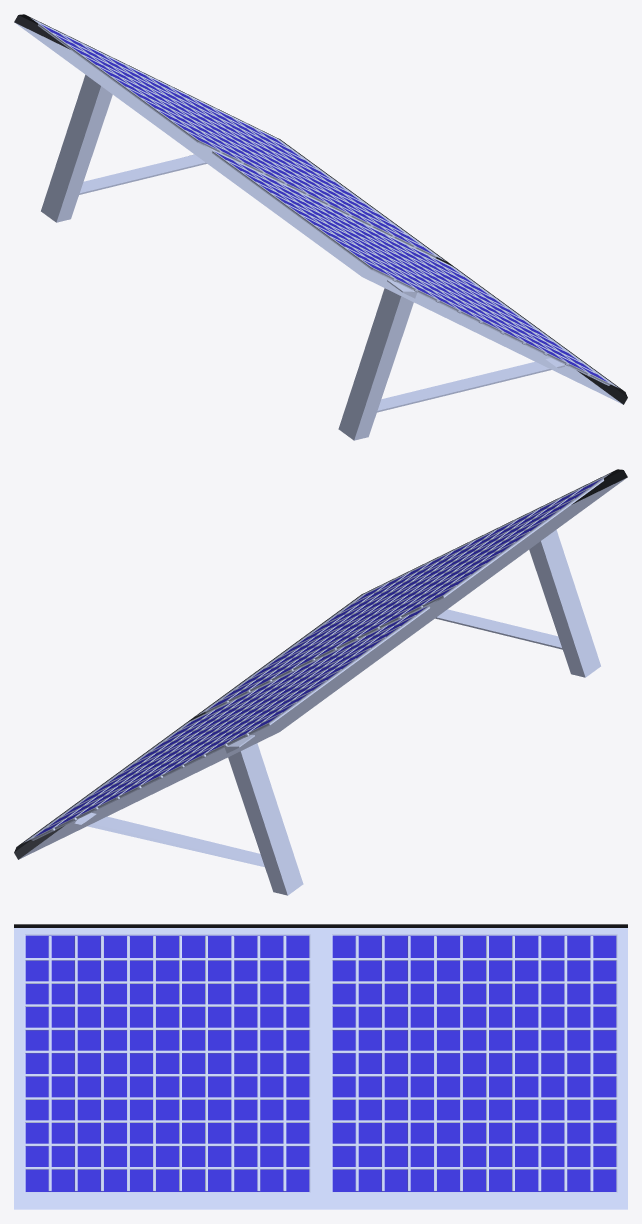
The model's file is Solarpanel.fbx.
The picture shows the model from 3 angles, top to bottom: view 1: azimuth 30°, elevation 25°; view 2: azimuth 150°, elevation 25°; view 3: azimuth 270°, elevation 25°; orthographic projection. The views are drawn at different scales.
Visible parts, largest first — view 1: 平面.001, 平面.003; view 2: 平面.001, 平面.003; view 3: 平面.001, 平面.003.
Part boxes in pixels (<box>): 平面.001: <box>14,14,627,440</box>; 平面.003: <box>51,32,596,376</box>; 平面.001: <box>14,469,627,895</box>; 平面.003: <box>45,487,590,831</box>; 平面.001: <box>14,924,627,1209</box>; 平面.003: <box>24,936,617,1191</box>.
Size of the model in its own units: 353 by 252 by 800.
